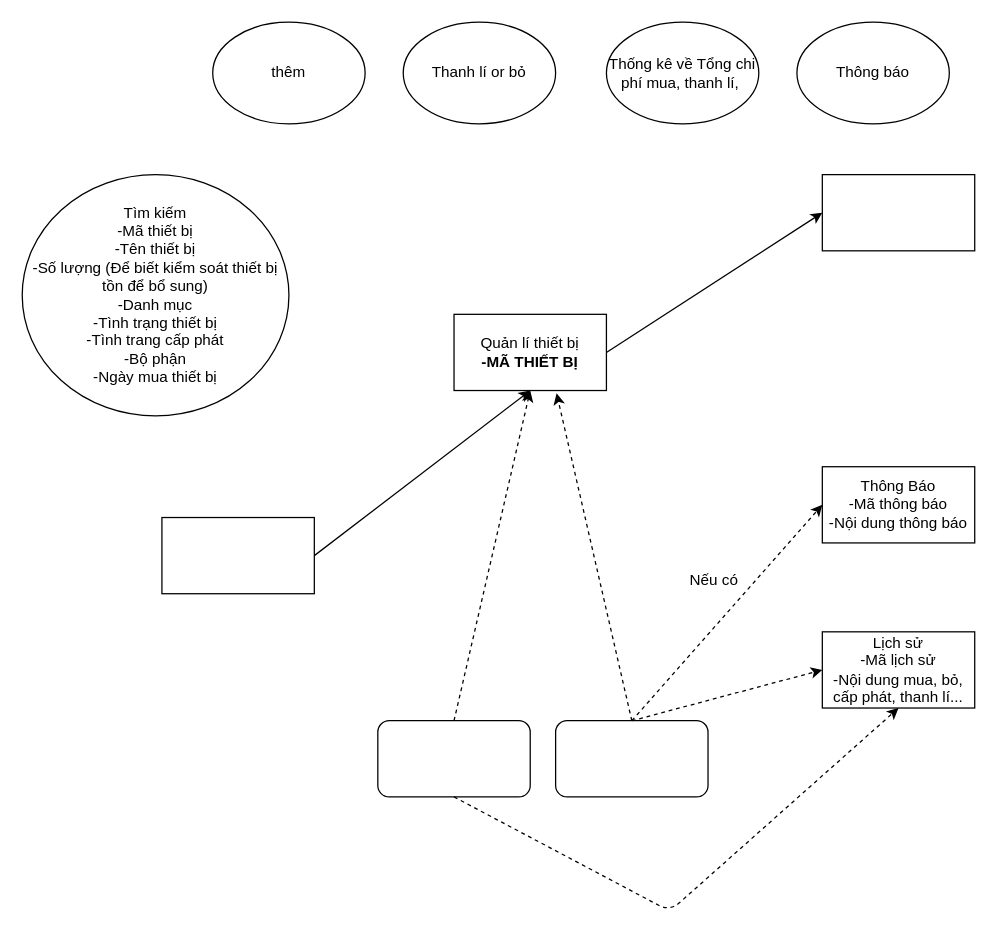
Image size: 997x944. Some labels were removed from this diagram. The shapes that lost their labels are listed below. From the top down, each one's box as (x1, y1, x2, y2) in pixels, then its label:
(821, 173, 975, 251): User -MÃ USER
(377, 719, 530, 797): Form cấp phát Mã cấp phát
(554, 719, 708, 797): Form Thêm thiết bị -Mã thiết bị
